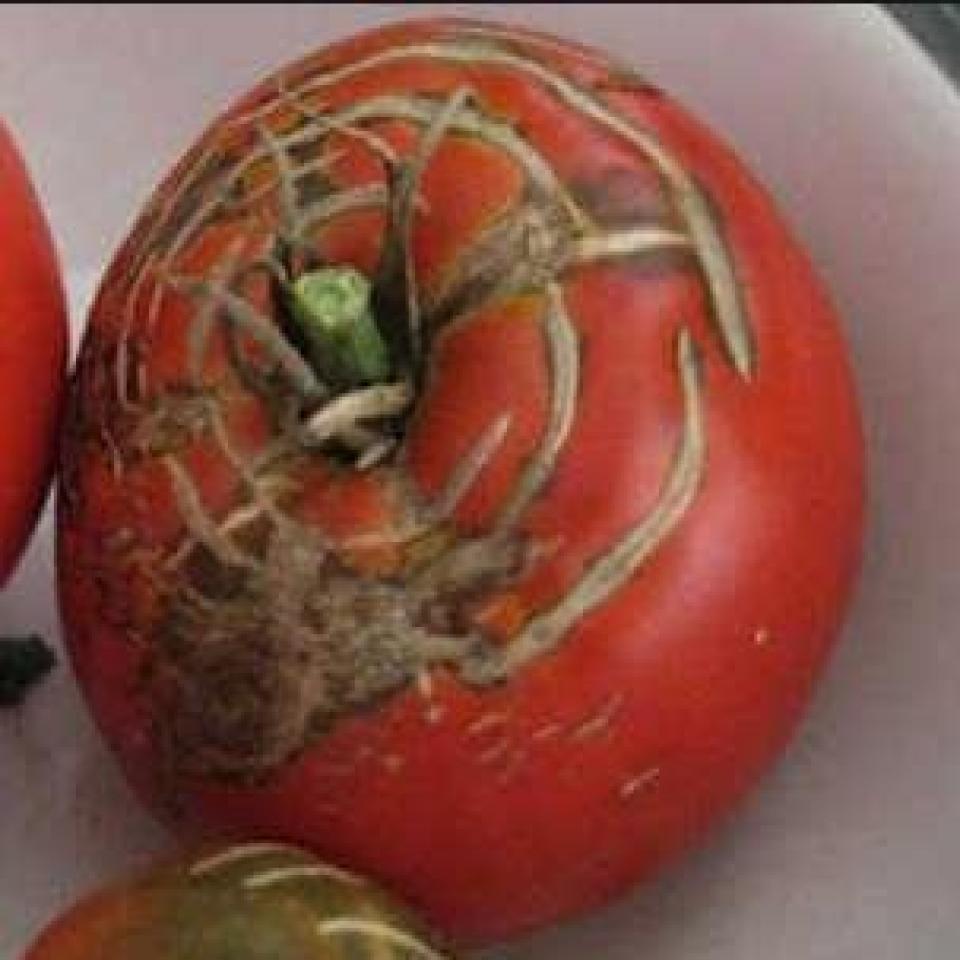Cracking: (61, 308, 468, 750), (330, 8, 789, 397), (152, 46, 654, 273), (476, 323, 776, 701), (489, 212, 598, 556), (145, 856, 394, 935)
